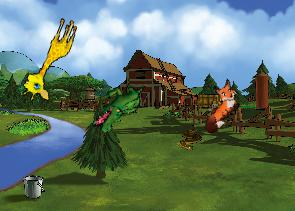crocodile: (90, 72, 147, 141)
fox: (188, 75, 249, 136)
giraffe: (18, 11, 80, 106)
